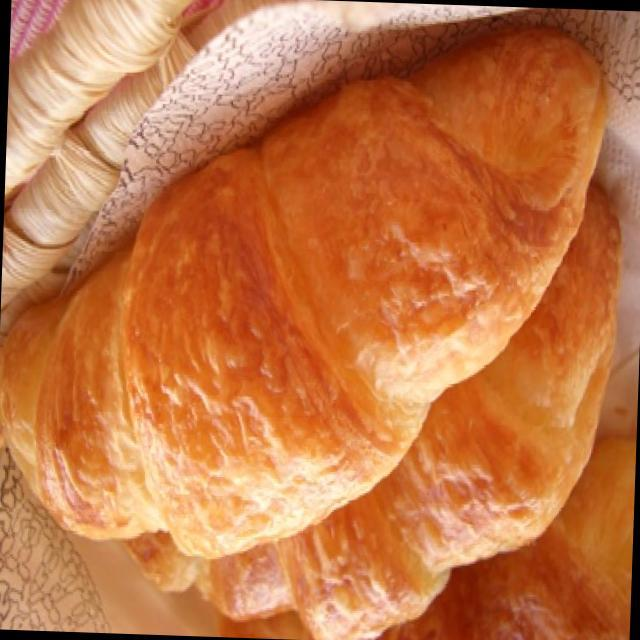Croissant: (0, 24, 602, 564)
